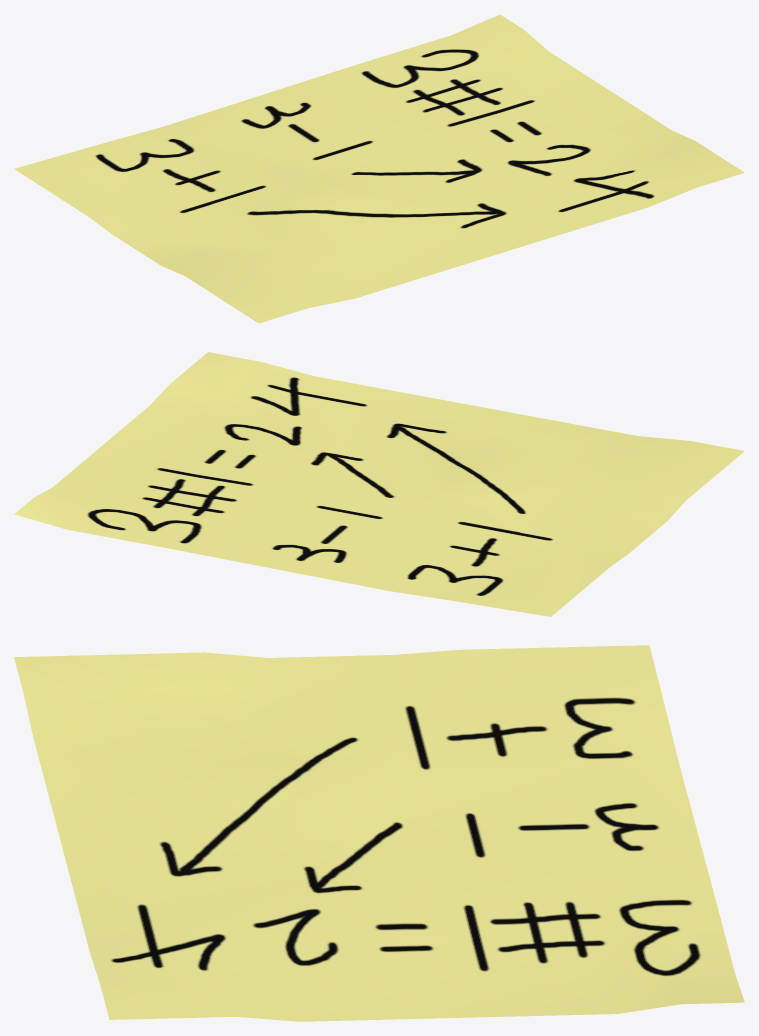
Rendered from tipPaper-v2.glb.
The picture shows the model from 3 angles, top to bottom: view 1: azimuth 30°, elevation 25°; view 2: azimuth 150°, elevation 25°; view 3: azimuth 270°, elevation 25°; orthographic projection. The views are drawn at different scales.
Visible parts, largest first — view 1: Object_2; view 2: Object_2; view 3: Object_2.
Boxes of the visible parts, x1,y1,x2,y2 form: Object_2: [14, 14, 744, 323]; Object_2: [14, 352, 744, 616]; Object_2: [14, 645, 744, 1021].
Bounding box in the file's own units: 7.86 × 0.1046 × 6.43.
1 material, 1 textured.
